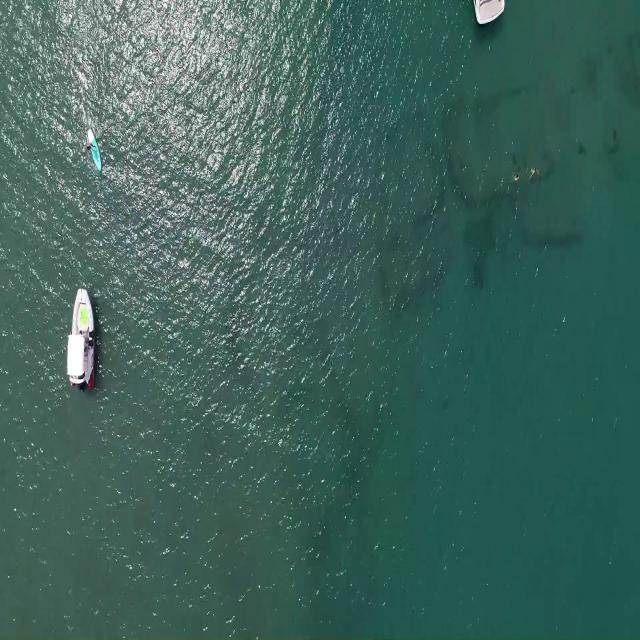boat: (65, 276, 97, 397)
person: (528, 166, 542, 179), (86, 140, 98, 154), (512, 172, 520, 182)
surfboard: (86, 126, 101, 175)
